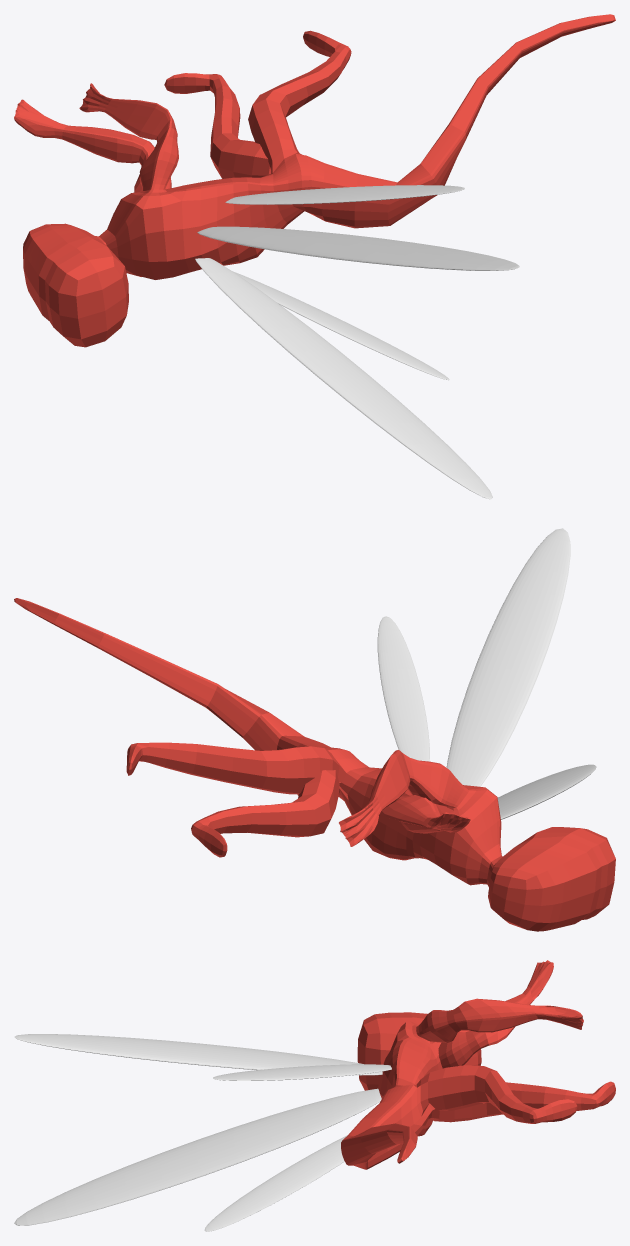
Rendered from Embrion okok1.fbx.
The picture shows the model from 3 angles, top to bottom: view 1: azimuth 30°, elevation 25°; view 2: azimuth 150°, elevation 25°; view 3: azimuth 270°, elevation 25°; orthographic projection. The views are drawn at different scales.
Visible parts, largest first — view 1: Cube.004, Sphere.012, Sphere.010; view 2: Cube.004, Sphere.012, Sphere.010; view 3: Cube.004, Sphere.012, Sphere.010.
Part boxes in pixels (x1,y1,x2,y2): Cube.004: (14,14,615,347); Sphere.012: (195,226,519,499); Sphere.010: (225,185,464,380); Cube.004: (14,598,615,931); Sphere.012: (446,528,596,819); Sphere.010: (377,616,429,761); Cube.004: (341,960,615,1169); Sphere.012: (14,1034,382,1225); Sphere.010: (204,1064,391,1231).
Bounding box in the file's own units: 443 × 179 × 457.
